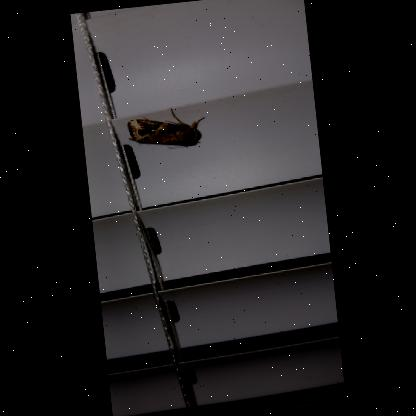Fall Armyworm Moth: (124, 104, 209, 154)
